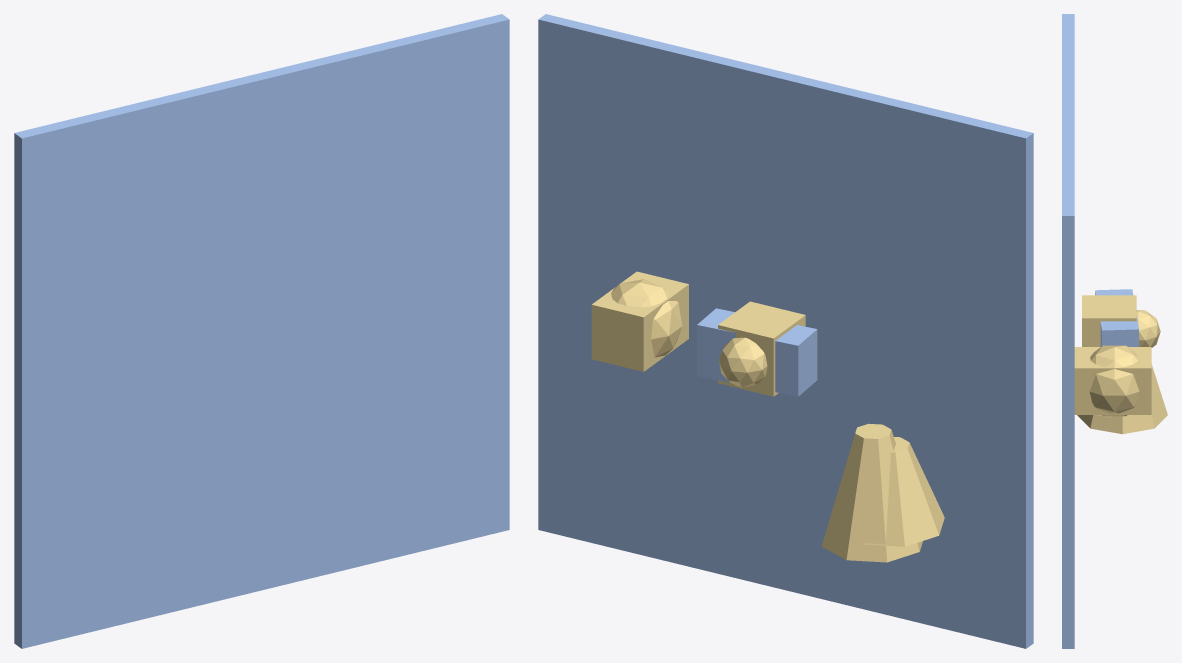
Rendered from ragdoll-toss-kit.glb.
3 renders of one model, left to right at view 1: azimuth 30°, elevation 25°; view 2: azimuth 150°, elevation 25°; view 3: azimuth 270°, elevation 25°, orthographic. The views are drawn at different scales.
Visible parts, largest first — view 1: ENVIRONMENT_GROUND; view 2: ENVIRONMENT_GROUND, PROFILE_ENVIRONMENT_DETAIL, PROFILE_OBSTACLE_DETAIL, PLAYER_BODY, ENVIRONMENT_LANDMARK, PROFILE_PLAYER_DETAIL, OBSTACLE, PLAYER_CORE; view 3: ENVIRONMENT_GROUND, PROFILE_OBSTACLE_DETAIL, OBSTACLE, PROFILE_PLAYER_DETAIL, PROFILE_ENVIRONMENT_DETAIL, PLAYER_BODY, PLAYER_CORE.
Boxes of the visible parts, left/top/right/bottom form: ENVIRONMENT_GROUND: left=14, top=14, right=509, bottom=648; ENVIRONMENT_GROUND: left=538, top=14, right=1033, bottom=648; PROFILE_ENVIRONMENT_DETAIL: left=821, top=423, right=922, bottom=562; PROFILE_OBSTACLE_DETAIL: left=591, top=271, right=688, bottom=371; PLAYER_BODY: left=697, top=308, right=817, bottom=396; ENVIRONMENT_LANDMARK: left=862, top=437, right=944, bottom=546; PROFILE_PLAYER_DETAIL: left=718, top=301, right=805, bottom=396; OBSTACLE: left=611, top=279, right=682, bottom=360; PLAYER_CORE: left=719, top=337, right=767, bottom=387; ENVIRONMENT_GROUND: left=1062, top=14, right=1074, bottom=648; PROFILE_OBSTACLE_DETAIL: left=1074, top=347, right=1151, bottom=414; OBSTACLE: left=1089, top=345, right=1139, bottom=416; PROFILE_PLAYER_DETAIL: left=1082, top=295, right=1136, bottom=346; PROFILE_ENVIRONMENT_DETAIL: left=1077, top=364, right=1167, bottom=434; PLAYER_BODY: left=1095, top=289, right=1138, bottom=346; PLAYER_CORE: left=1136, top=310, right=1160, bottom=347.
Size of what is drawn, in the model's own units: 9 by 9 by 2.
